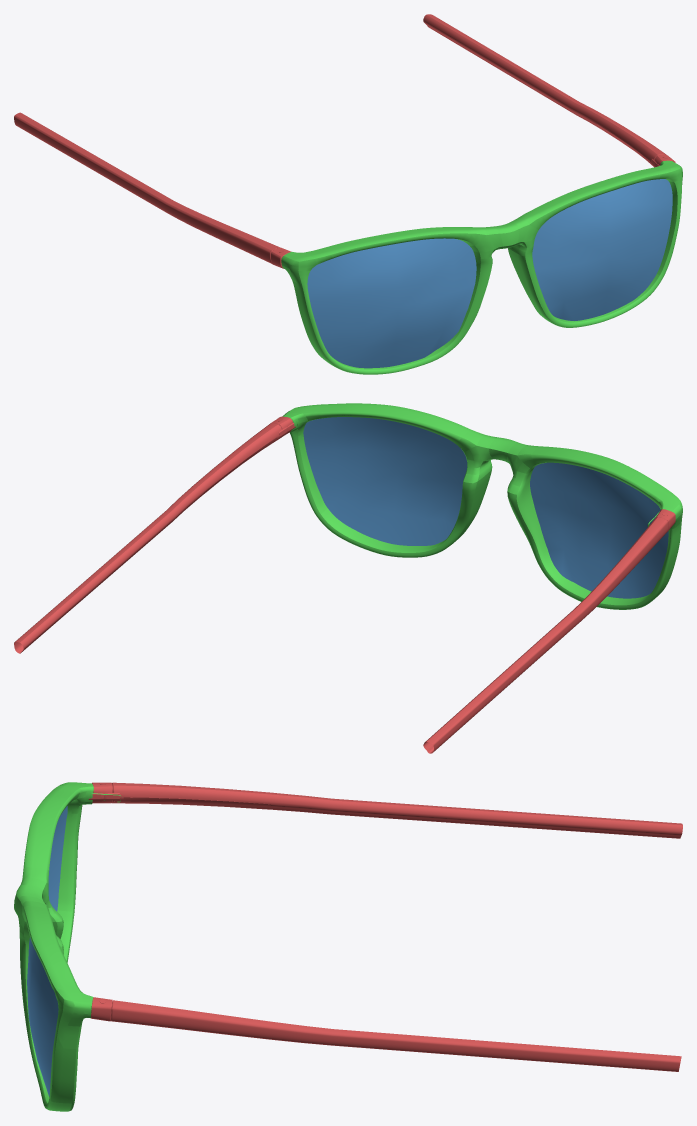
File: glasses-1.glb
3 views of the same model, one above another, from view 1: azimuth 30°, elevation 25°; view 2: azimuth 150°, elevation 25°; view 3: azimuth 270°, elevation 25° (orthographic). The views are drawn at different scales.
Parts seen in each view (by area): view 1: glasses, frame, bow_right, bow_left; view 2: glasses, frame, bow_right, bow_left; view 3: frame, bow_left, bow_right, glasses.
Part boxes in pixels (<box>): glasses: <box>307,179,672,368</box>; frame: <box>281,160,682,374</box>; bow_right: <box>14,112,290,268</box>; bow_left: <box>423,14,675,167</box>; glasses: <box>303,417,668,598</box>; frame: <box>282,403,682,609</box>; bow_right: <box>423,509,675,753</box>; bow_left: <box>14,416,295,653</box>; frame: <box>14,782,121,1111</box>; bow_left: <box>91,997,681,1071</box>; bow_right: <box>88,782,682,838</box>; glasses: <box>27,806,67,1096</box>.
Bounding box in the file's own units: 16.34 × 5.18 × 19.44.
